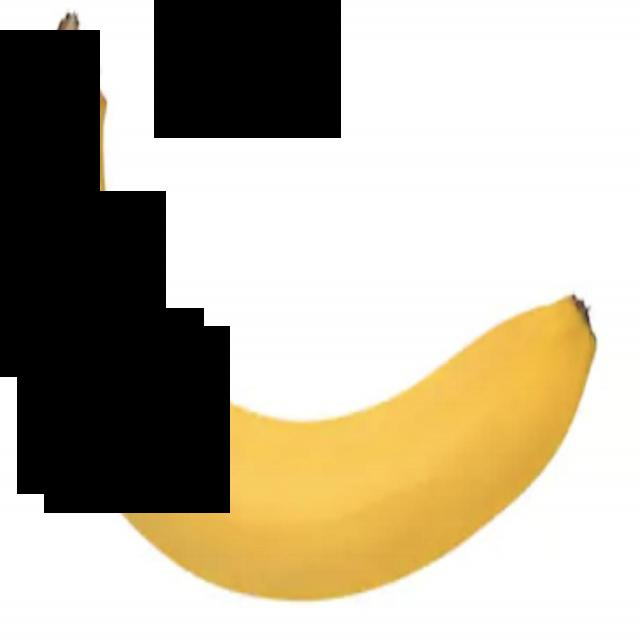banana: (27, 0, 626, 637)
